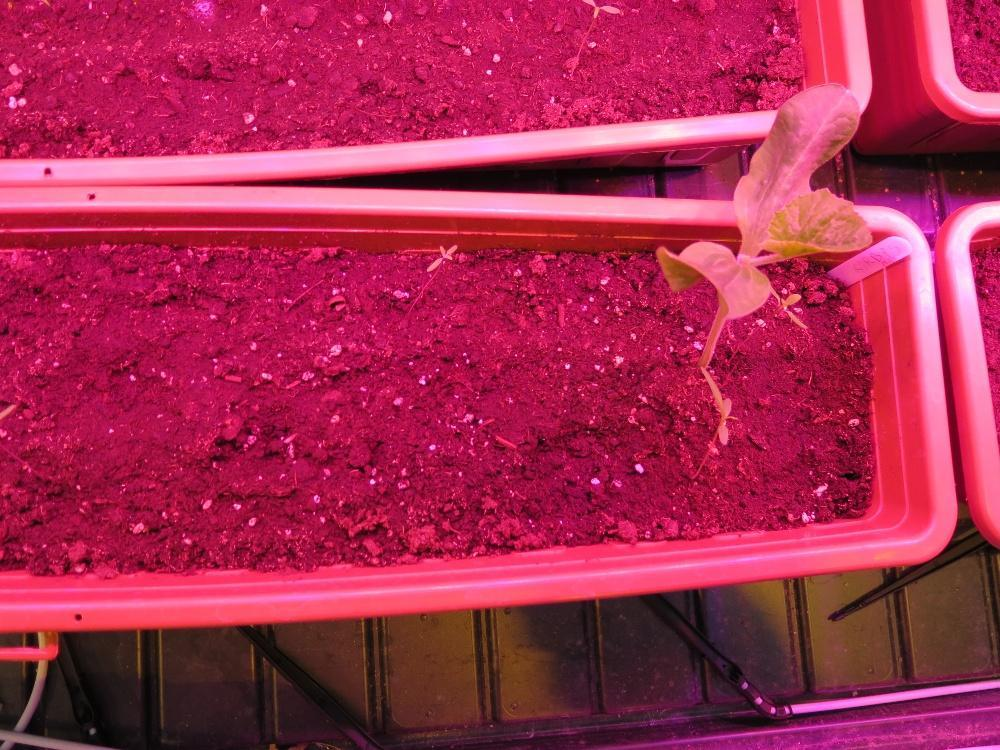weed: (424, 241, 457, 273)
